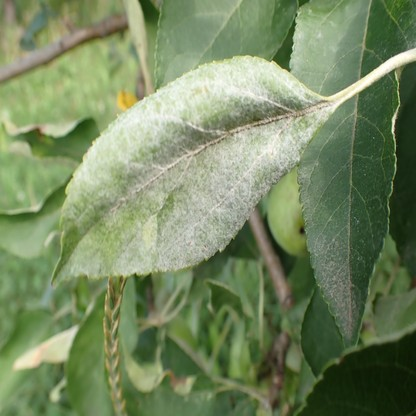powdery_mildew: (51, 54, 325, 278), (301, 164, 354, 339)
